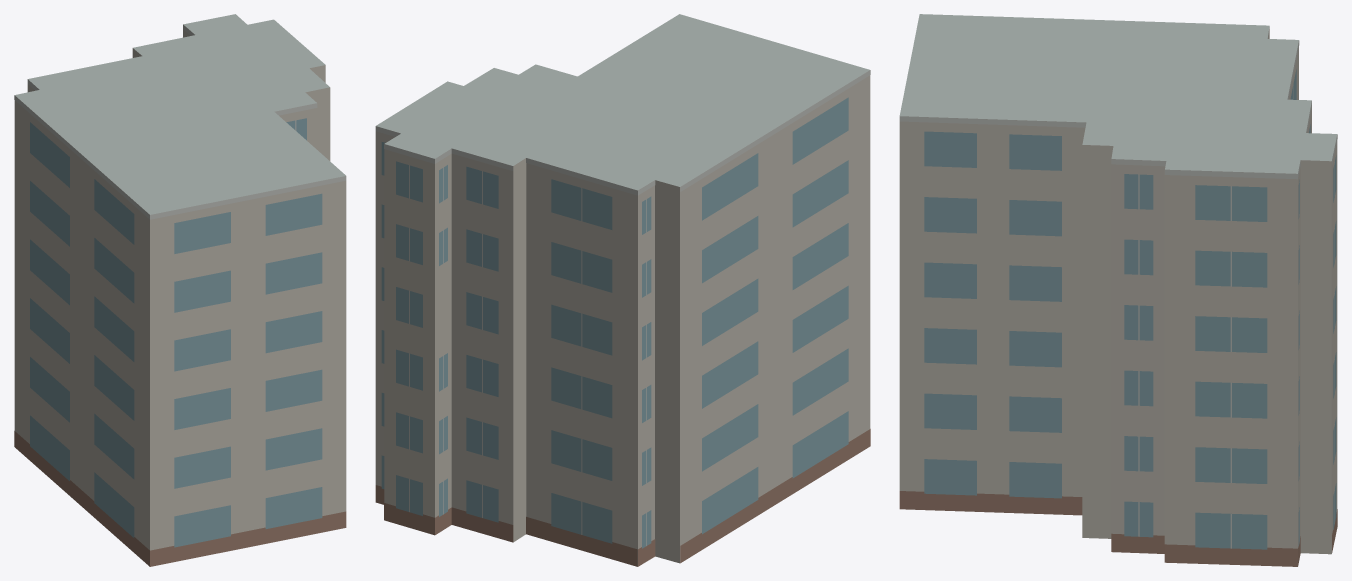
File: survey-upis-32670688.glb
The picture shows the model from 3 angles, left to right: view 1: azimuth 30°, elevation 25°; view 2: azimuth 150°, elevation 25°; view 3: azimuth 270°, elevation 25°; orthographic projection. The views are drawn at different scales.
Parts seen in each view (by area): view 1: survey-upis-32670688.tmp; view 2: survey-upis-32670688.tmp; view 3: survey-upis-32670688.tmp.
Boxes of the visible parts, left/top/right/bottom form: survey-upis-32670688.tmp: left=14, top=14, right=346, bottom=566; survey-upis-32670688.tmp: left=375, top=14, right=870, bottom=566; survey-upis-32670688.tmp: left=899, top=14, right=1337, bottom=566.
Size of the model in its own units: 15.62 by 17.9 by 18.08.
